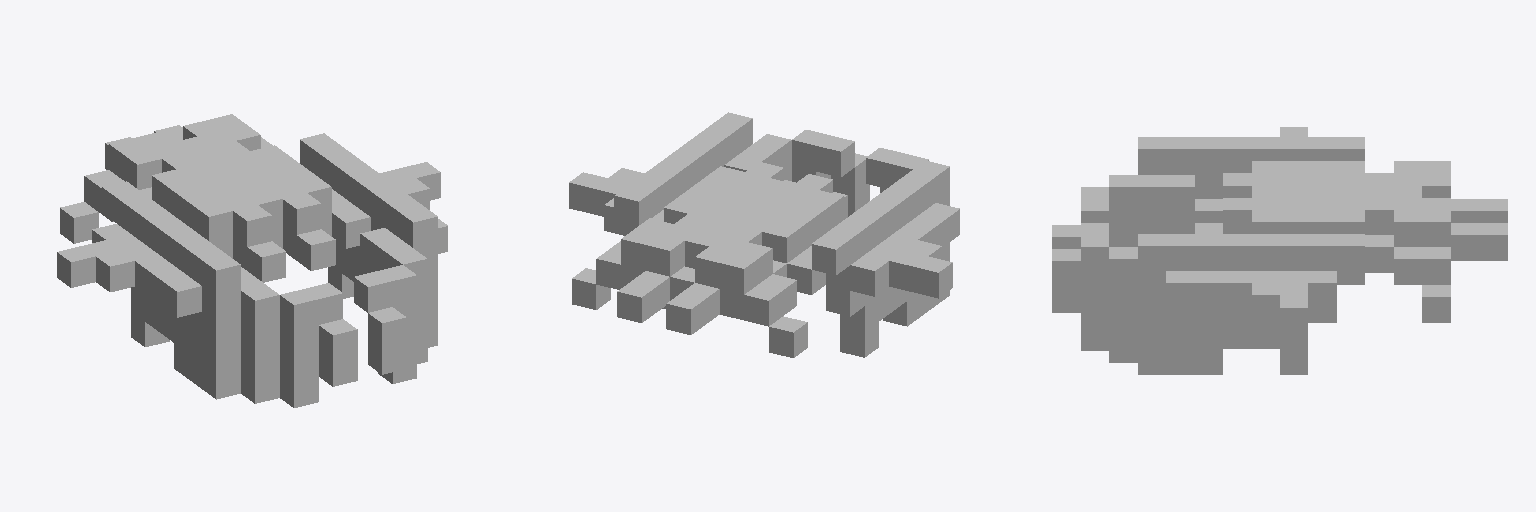
Rendered from boss00.obj.
3 views of the same model, side by side, from view 1: azimuth 30°, elevation 25°; view 2: azimuth 150°, elevation 25°; view 3: azimuth 270°, elevation 25° (orthographic).
Parts seen in each view (by area): view 1: group_3_ID95, group_3.002_ID111, group_3.009_ID167, group_3.004_ID127, group_3.003_ID119, group_3.005_ID135, group_3.001_ID103, group_3.006_ID143; view 2: group_3_ID95, group_3.002_ID111, group_3.005_ID135, group_3.001_ID103, group_3.003_ID119; view 3: group_3_ID95, group_3.002_ID111, group_3.006_ID143, group_3.001_ID103, group_3.009_ID167, group_3.005_ID135, group_3.003_ID119, group_3.004_ID127, group_3.007_ID151.
Boxes of the visible parts, x1,y1,x2,y2 form: group_3_ID95: [57, 125, 447, 407]; group_3.002_ID111: [152, 145, 331, 258]; group_3.009_ID167: [188, 312, 279, 377]; group_3.004_ID127: [283, 193, 335, 270]; group_3.003_ID119: [233, 205, 285, 282]; group_3.005_ID135: [109, 132, 185, 189]; group_3.001_ID103: [183, 114, 260, 150]; group_3.006_ID143: [417, 268, 437, 338]; group_3_ID95: [569, 112, 959, 357]; group_3.002_ID111: [664, 166, 843, 262]; group_3.005_ID135: [695, 236, 772, 319]; group_3.001_ID103: [621, 218, 697, 287]; group_3.003_ID119: [795, 174, 847, 219]; group_3_ID95: [1052, 127, 1507, 374]; group_3.002_ID111: [1252, 161, 1364, 233]; group_3.006_ID143: [1109, 285, 1194, 348]; group_3.001_ID103: [1394, 198, 1450, 246]; group_3.009_ID167: [1109, 213, 1194, 246]; group_3.005_ID135: [1394, 161, 1450, 197]; group_3.003_ID119: [1195, 173, 1251, 222]; group_3.004_ID127: [1195, 198, 1251, 233]; group_3.007_ID151: [1195, 309, 1251, 322].
Bounding box in the file's own units: 19.69 × 6.56 × 21.